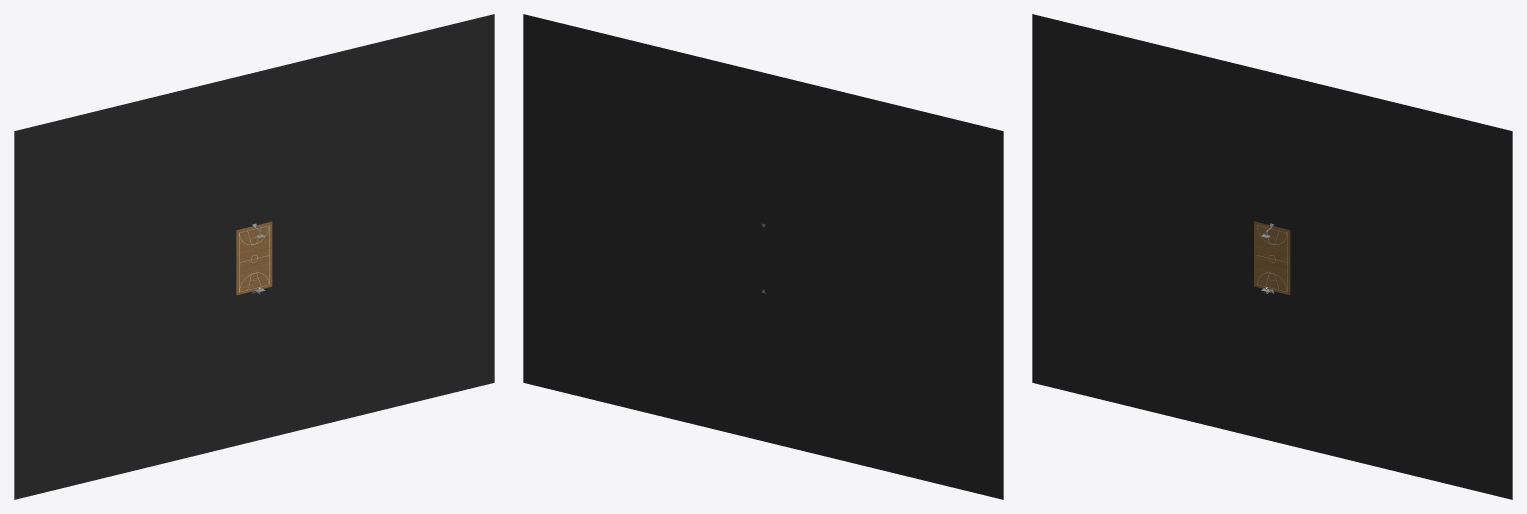
The model's file is basketballcourt.obj.
3 renders of one model, left to right at view 1: azimuth 30°, elevation 25°; view 2: azimuth 150°, elevation 25°; view 3: azimuth 330°, elevation 25°, orthographic.
Visible parts, largest first — view 1: base, wood; view 2: base; view 3: base, wood.
Part boxes in pixels (x1,y1,x2,y2): base: (14,14,494,499); wood: (236,221,272,295); base: (523,14,1003,499); base: (1032,14,1512,499); wood: (1254,221,1290,295).
Bounding box in the file's own units: 11961 × 8771 × 341.
